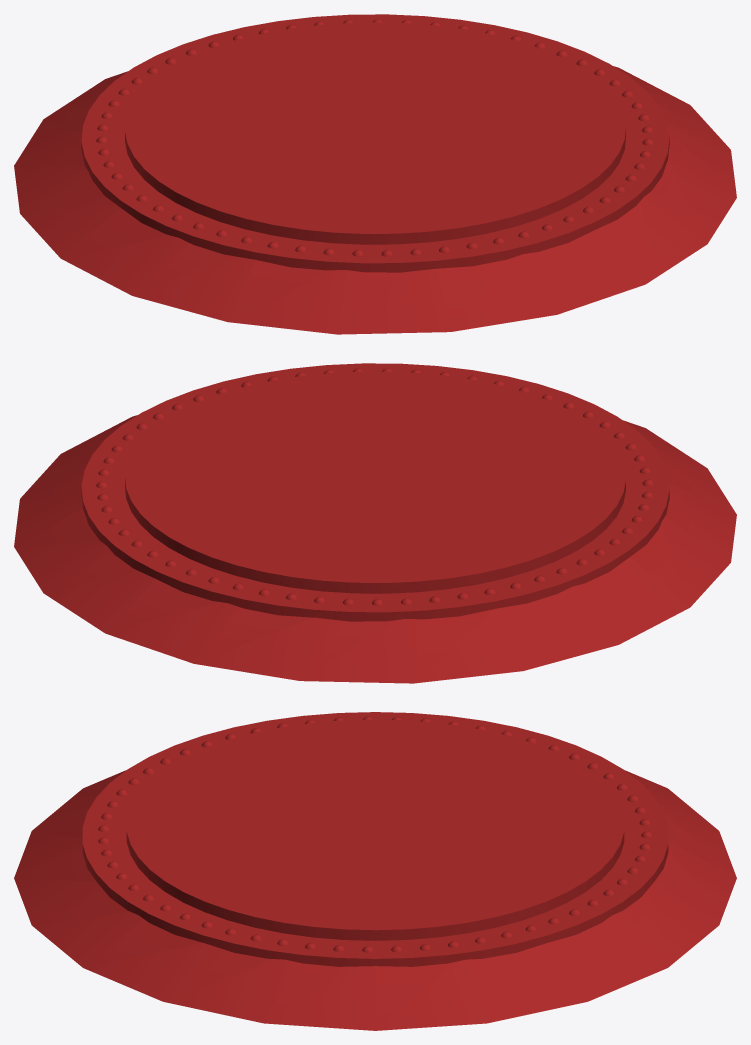
File: Player Platform v2 SP2.fbx
The picture shows the model from 3 angles, top to bottom: view 1: azimuth 30°, elevation 25°; view 2: azimuth 150°, elevation 25°; view 3: azimuth 270°, elevation 25°; orthographic projection.
Parts seen in each view (by area): view 1: pSphere62; view 2: pSphere62; view 3: pSphere62.
Boxes of the visible parts, <box> form: pSphere62: <box>14,14,736,334</box>; pSphere62: <box>14,363,736,683</box>; pSphere62: <box>14,712,736,1030</box>.
Size of the model in its own units: 14.5 by 1.18 by 14.5.
